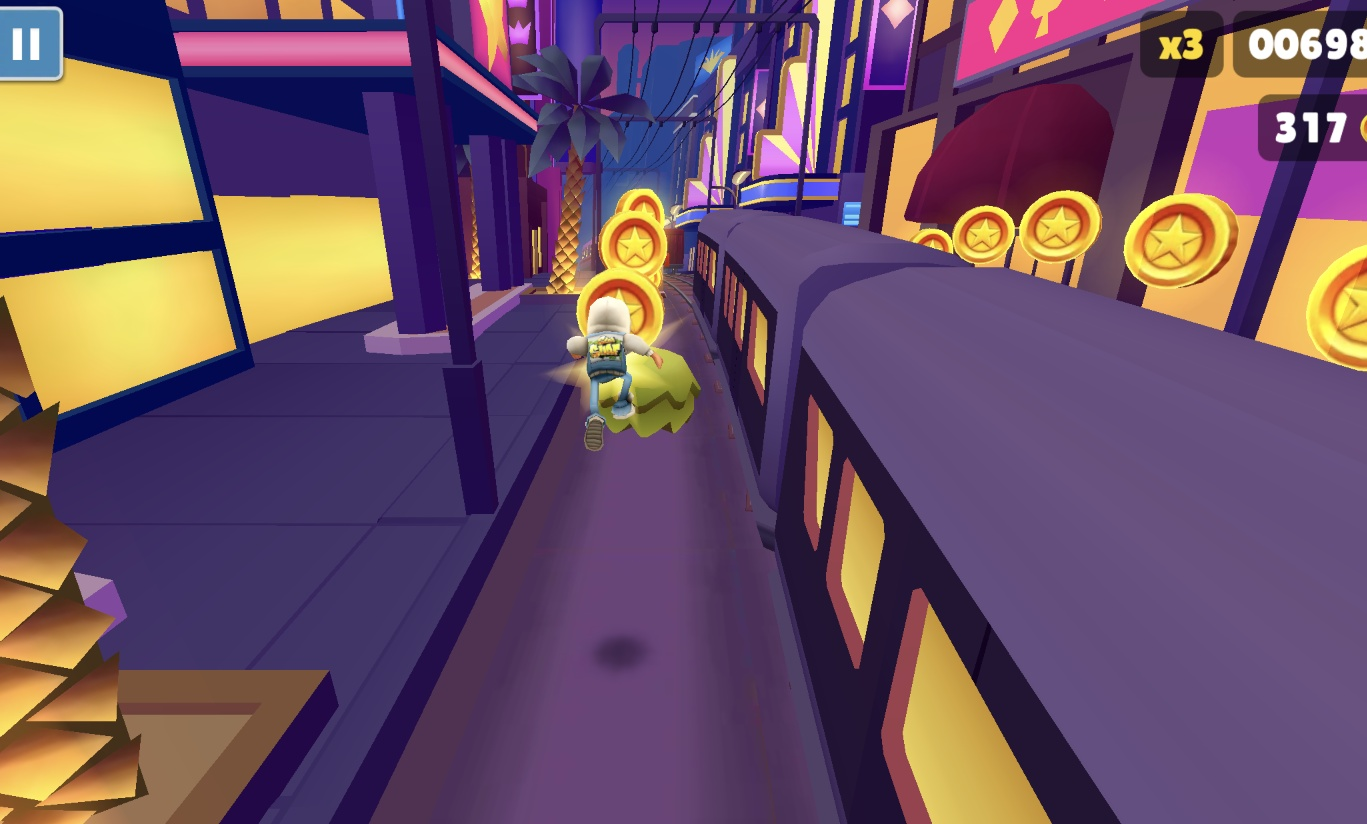bush: (604, 348, 701, 438)
train: (681, 207, 1367, 824), (658, 226, 685, 274)
